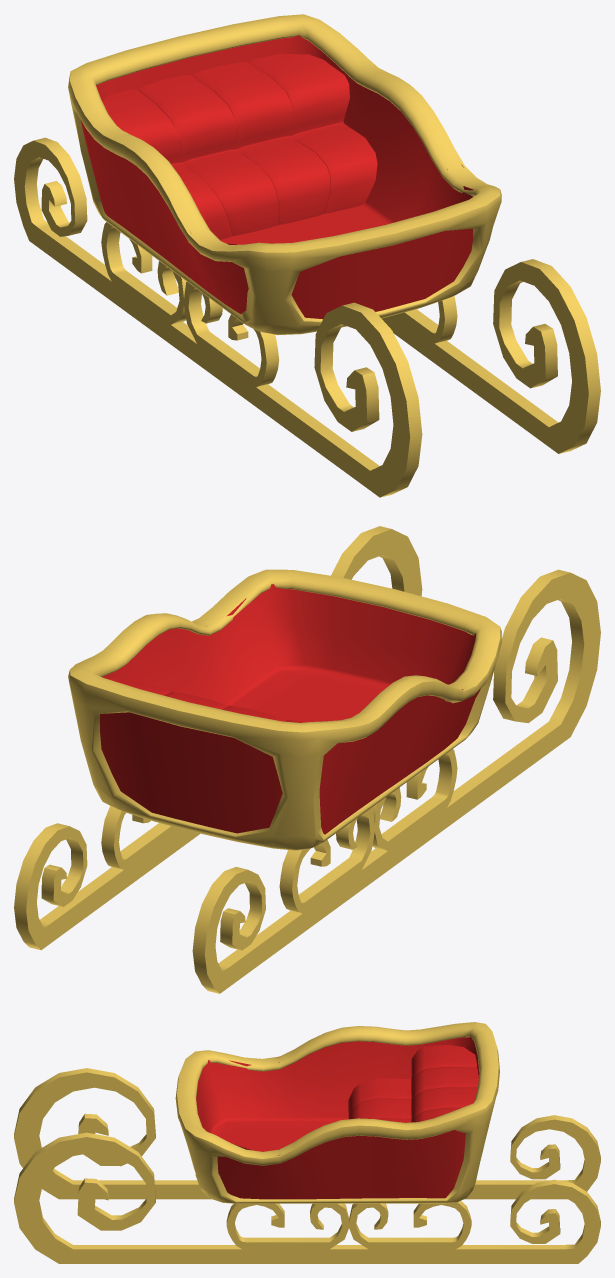
File: Santas_Sleigh_2.glb
3 views of the same model, one above another, from view 1: azimuth 30°, elevation 25°; view 2: azimuth 150°, elevation 25°; view 3: azimuth 270°, elevation 25° (orthographic). The views are drawn at different scales.
Parts seen in each view (by area): view 1: Santas_Sleigh_2; view 2: Santas_Sleigh_2; view 3: Santas_Sleigh_2.
Boxes of the visible parts, x1,y1,x2,y2 form: Santas_Sleigh_2: [14, 14, 600, 497]; Santas_Sleigh_2: [14, 526, 600, 993]; Santas_Sleigh_2: [14, 1022, 600, 1263].
Size of the model in its own units: 1.77 by 1.36 by 4.37.
1 material, 1 textured.
